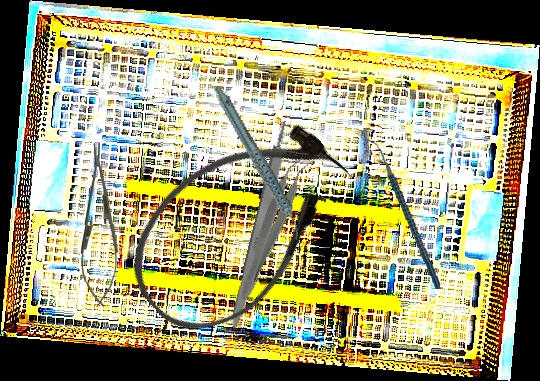Cannula: (103, 93, 374, 359)
Chopper: (364, 131, 441, 294)
Handpiece: (211, 74, 303, 252)
Needle Holder: (78, 142, 120, 307)
Scalpel Handle: (227, 119, 295, 334)
Tissue Forceps: (234, 152, 313, 305)
